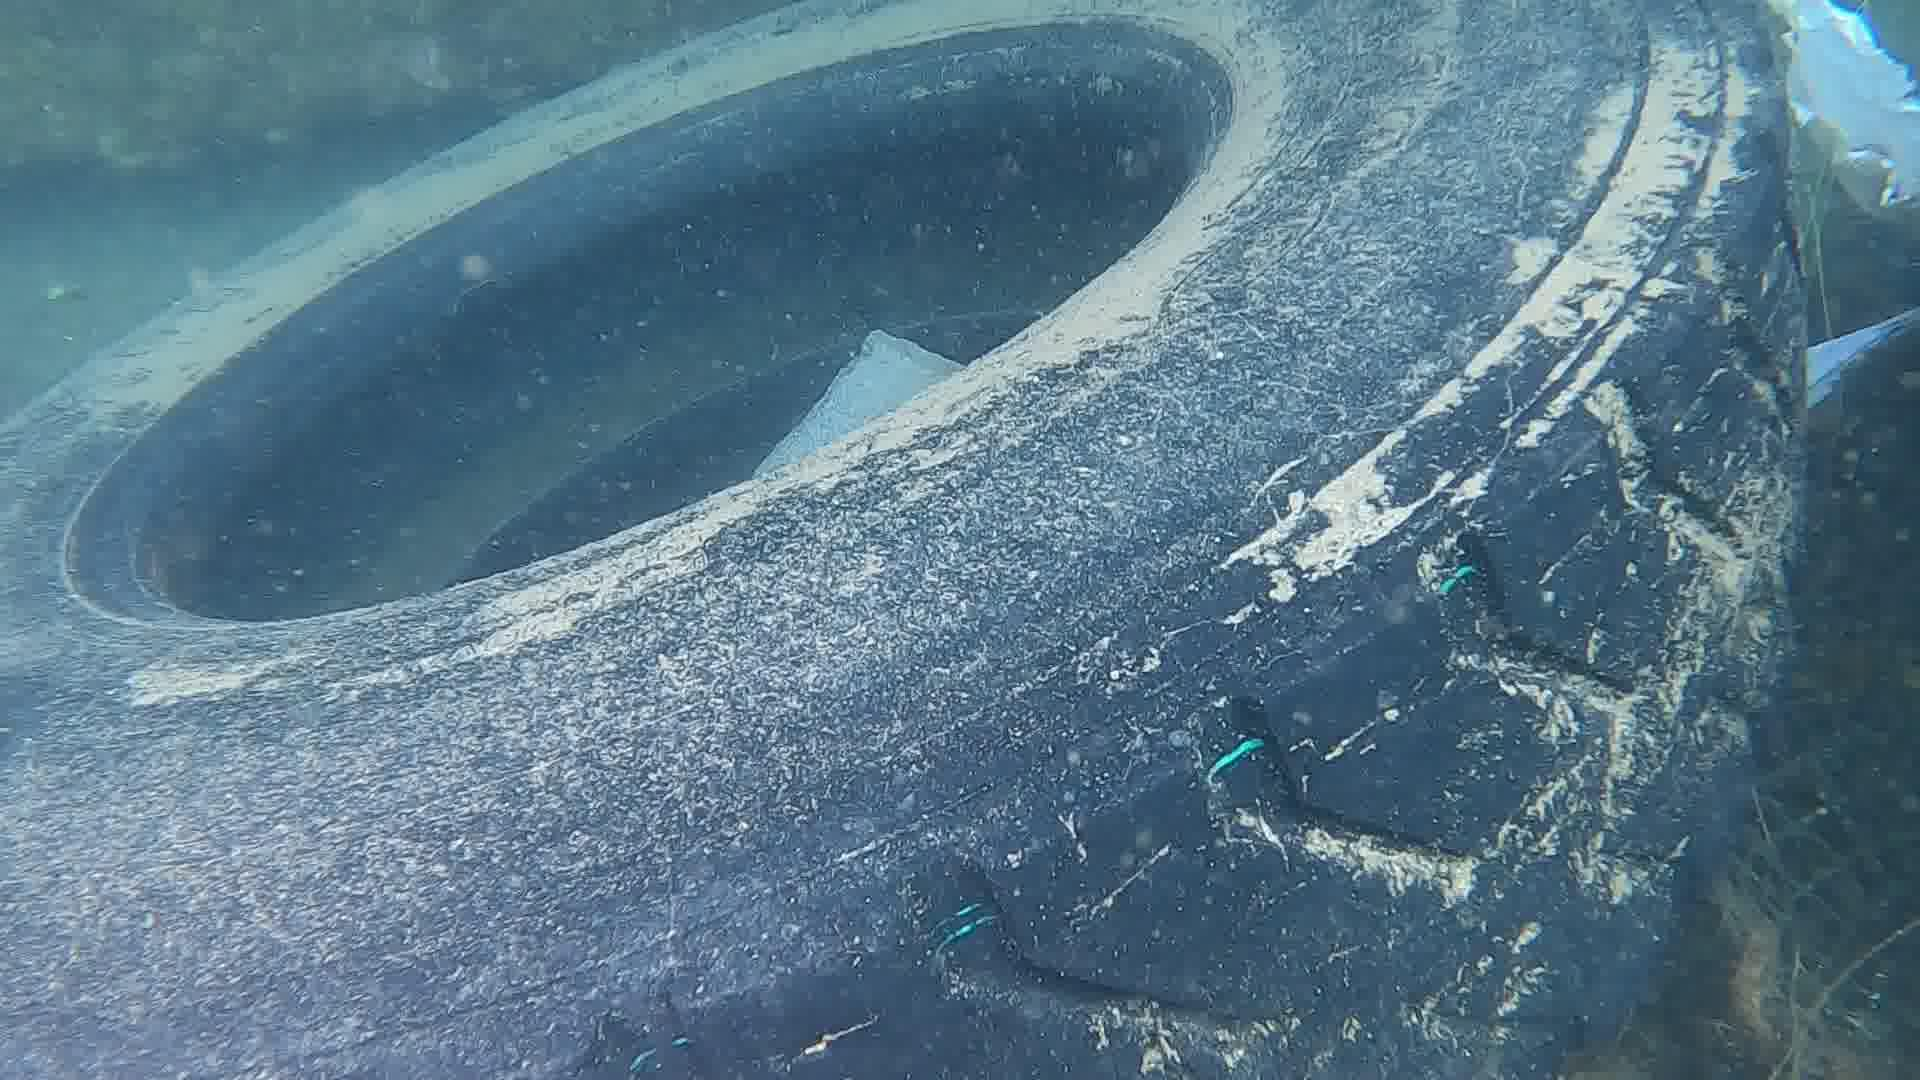tire: (0, 0, 1807, 1080)
